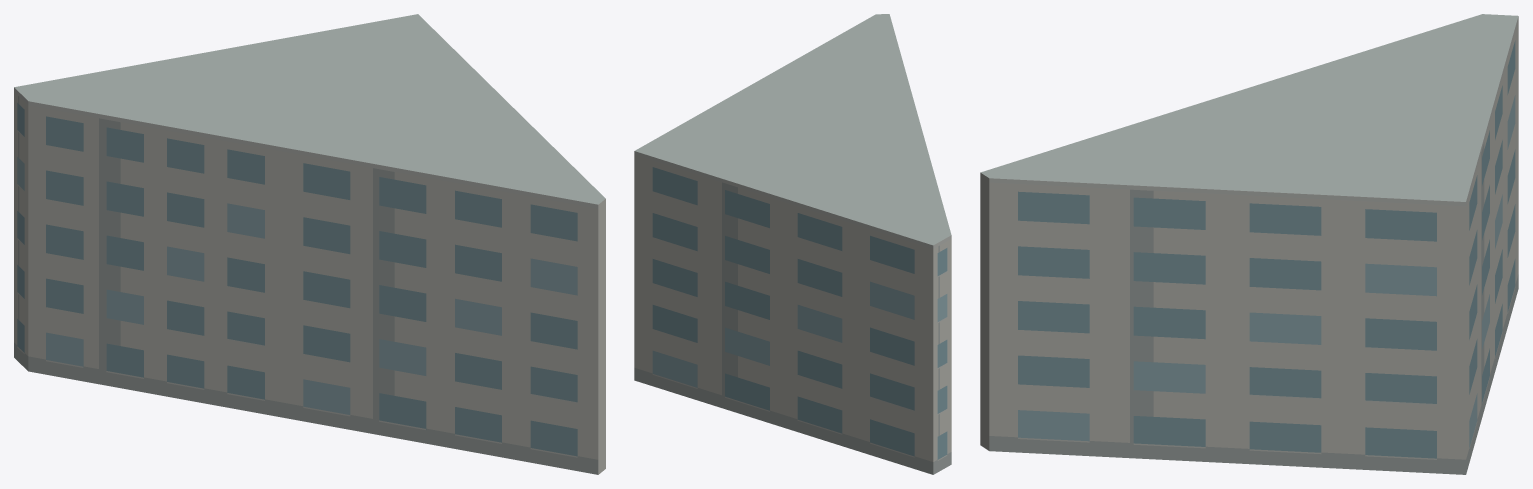
File: survey-upis-32519599.glb
3 renders of one model, left to right at view 1: azimuth 30°, elevation 25°; view 2: azimuth 150°, elevation 25°; view 3: azimuth 270°, elevation 25°, orthographic. The views are drawn at different scales.
Visible parts, largest first — view 1: survey-upis-32519599.tmp; view 2: survey-upis-32519599.tmp; view 3: survey-upis-32519599.tmp.
Part boxes in pixels (box(x1,y1,x2,y2)): survey-upis-32519599.tmp: box(14, 14, 605, 474); survey-upis-32519599.tmp: box(634, 14, 951, 474); survey-upis-32519599.tmp: box(980, 14, 1518, 474).
Size of the model in its own units: 22.55 by 15.25 by 27.27.
